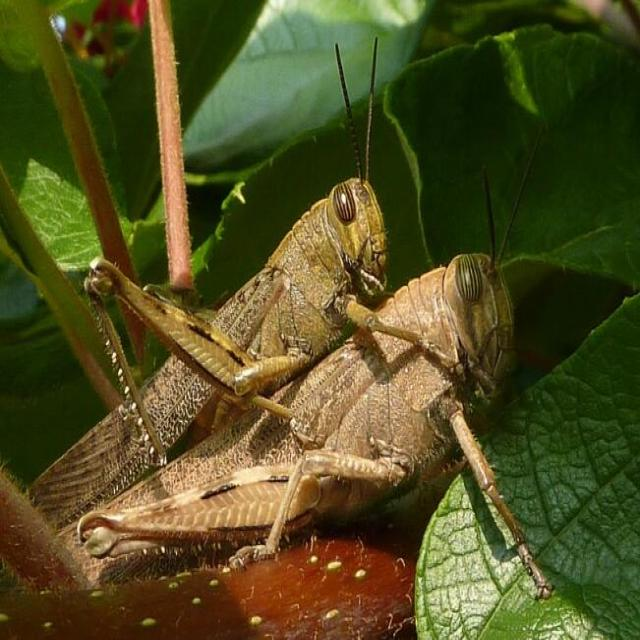ZhaMeng: (53, 240, 515, 566), (68, 162, 406, 386)
